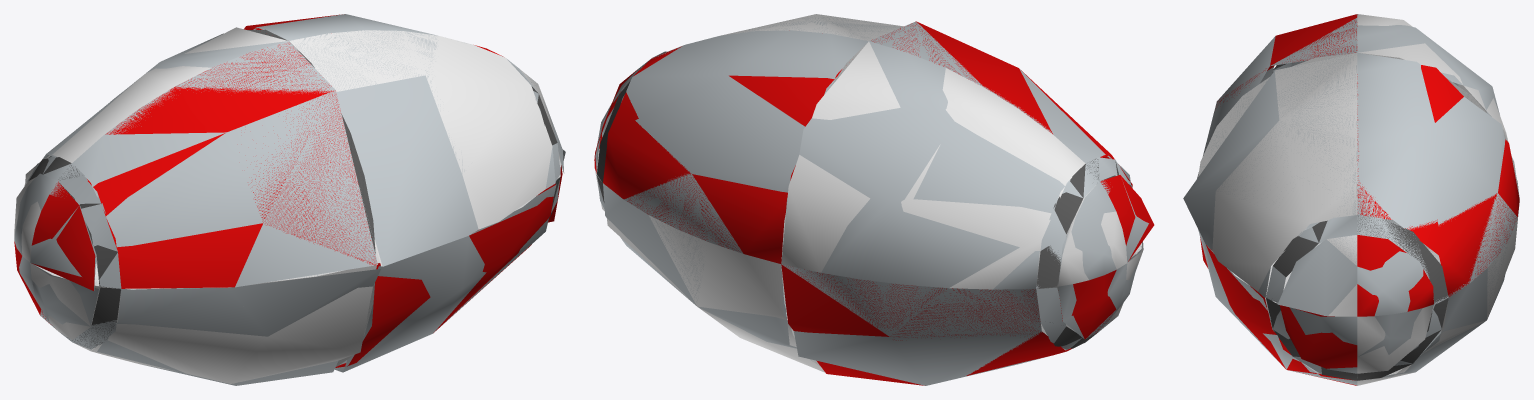
Rendered from RugbyBall_LowPoly.fbx.
The picture shows the model from 3 angles, left to right: view 1: azimuth 30°, elevation 25°; view 2: azimuth 150°, elevation 25°; view 3: azimuth 270°, elevation 25°; orthographic projection. The views are drawn at different scales.
Parts seen in each view (by area): view 1: Mesh1; view 2: Mesh1; view 3: Mesh1.
Boxes of the visible parts, x1,y1,x2,y2 form: Mesh1: [14, 14, 565, 385]; Mesh1: [594, 14, 1154, 385]; Mesh1: [1183, 14, 1519, 385].
Size of the model in its own units: 0.5124 by 0.3011 by 0.312.
